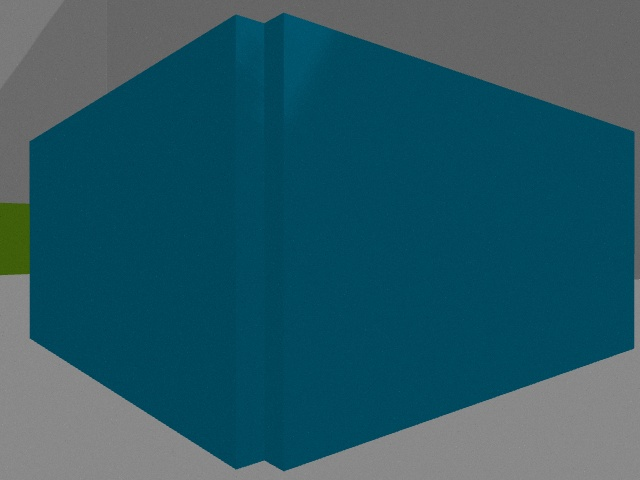blue_drop_zone: (29, 13, 635, 471)
green_drop_zone: (0, 203, 29, 275)
